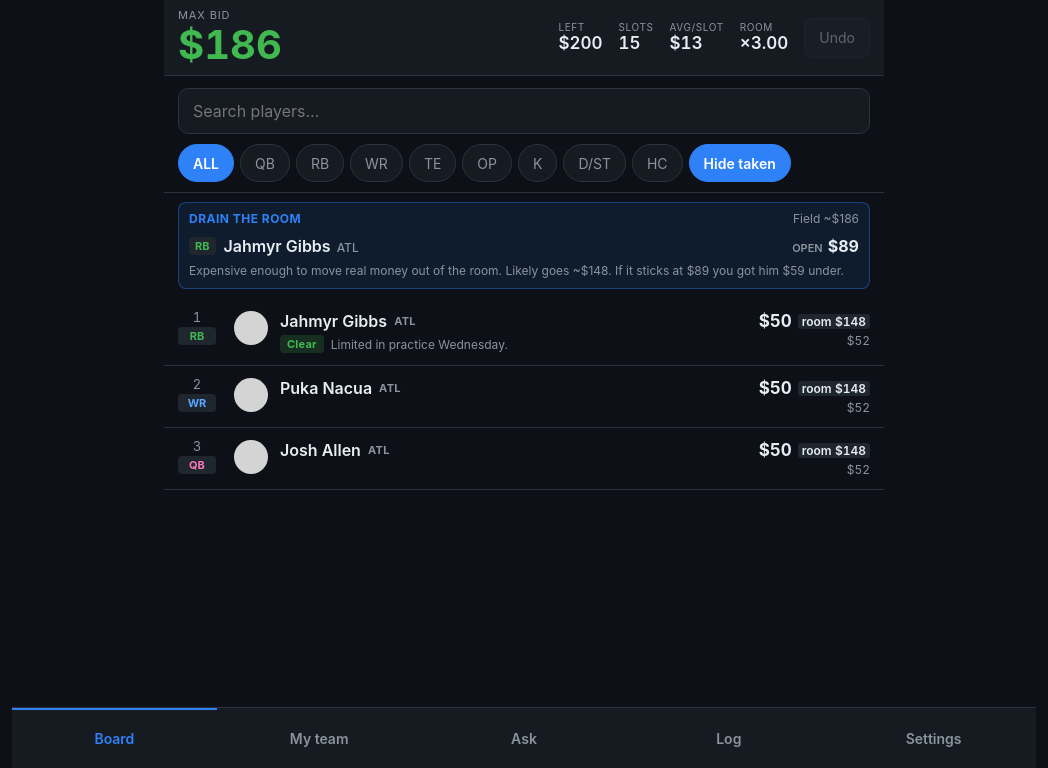
it: draft board end to end › shows the headline inline when collapsed and only in the panel when open
Expected: the text "Limited in practice Wednesday." is shown, 331,337 -> 508,352
Expected: the text "Clear" is shown, 280,335 -> 324,353
Click the text "Jahmyr Gibbs".
click(334, 321)  # box 280,311 -> 387,331
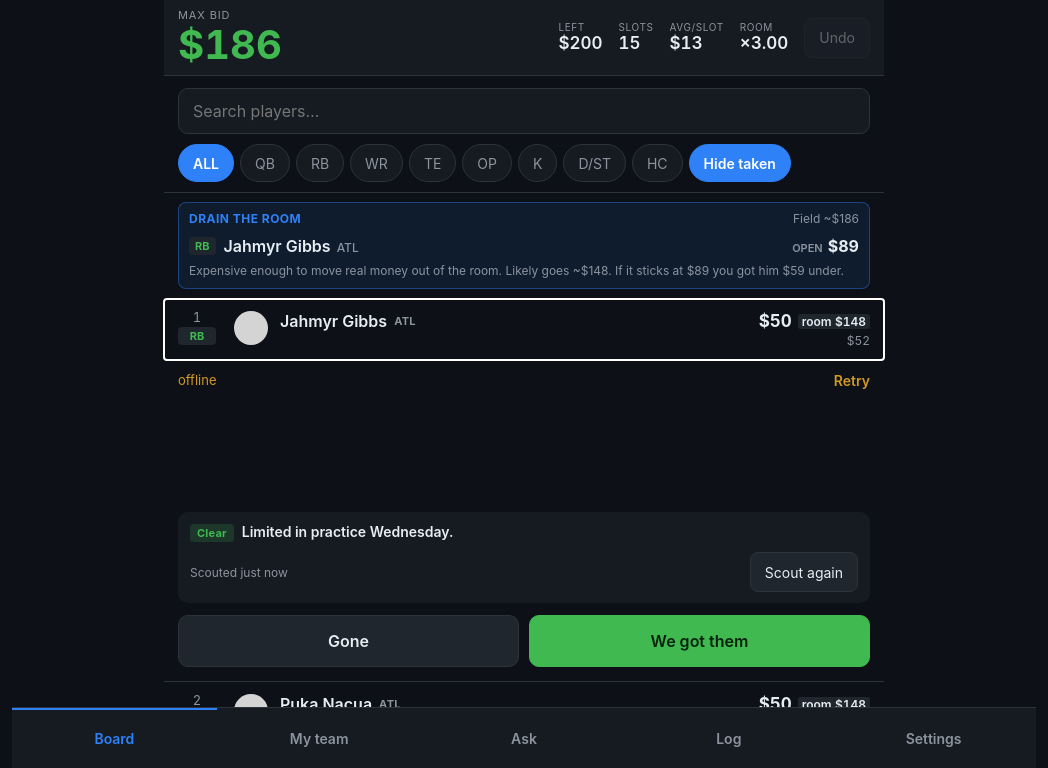
Expected: the text "Clear" is shown once, 190,524 -> 234,542
Expected: the text "Limited in practice Wednesday." is shown once, 242,523 -> 454,542
Expected: the element with class "row-scout" is gone
